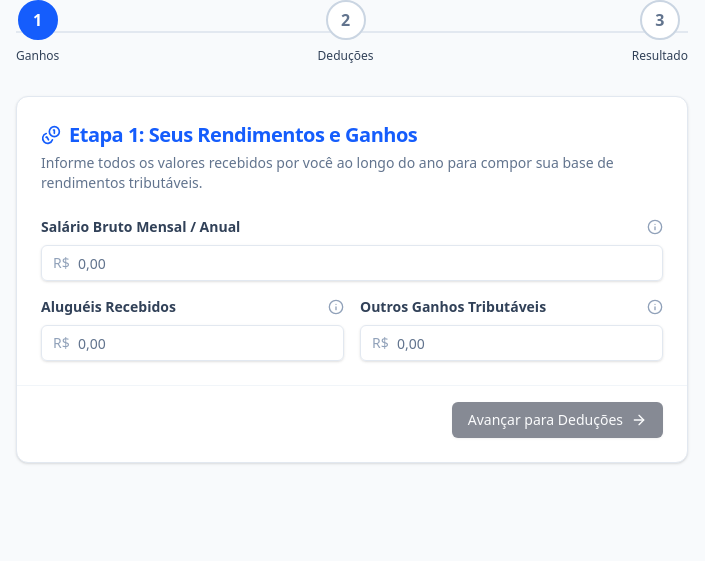
Scenario: WizardForm Component › deve avançar para a Etapa 2 ao clicar em avançar após preencher os dados
The width and height of the screenshot is (705, 561).
Type "3000" into the number field labelled "Salário Bruto Mensal / Anual". click: (352, 263)
box: x1=41 y1=245 x2=663 y2=281
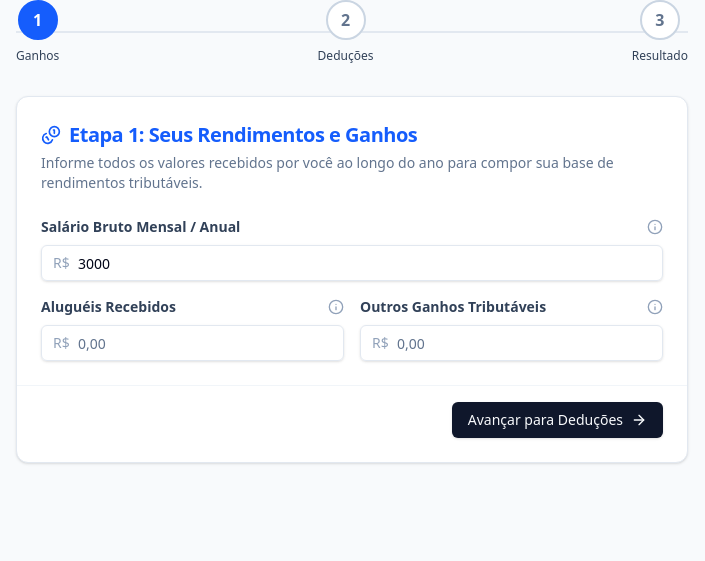
Expected: the button "Avançar para Deduções" is enabled
Click the button "Avançar para Deduções". click: (557, 420)
box: x1=452 y1=402 x2=663 y2=438
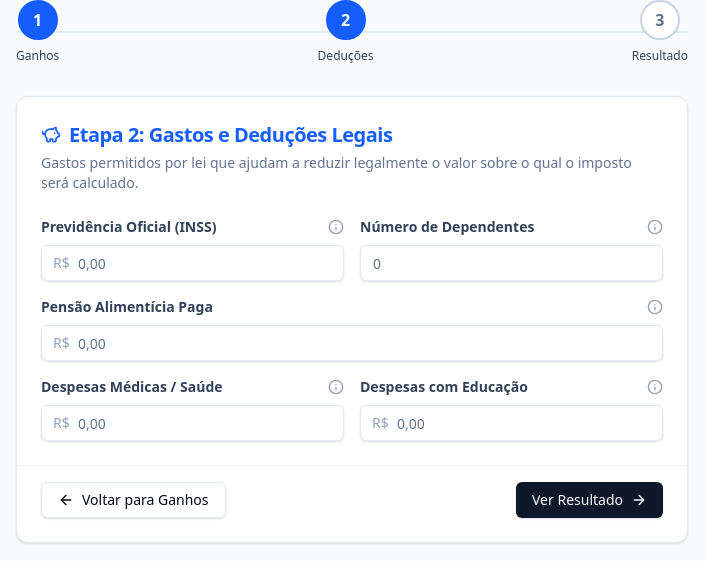
Expected: the heading "Etapa 2: Gastos e Deduções Legais" is shown, x1=69 y1=121 x2=392 y2=149
